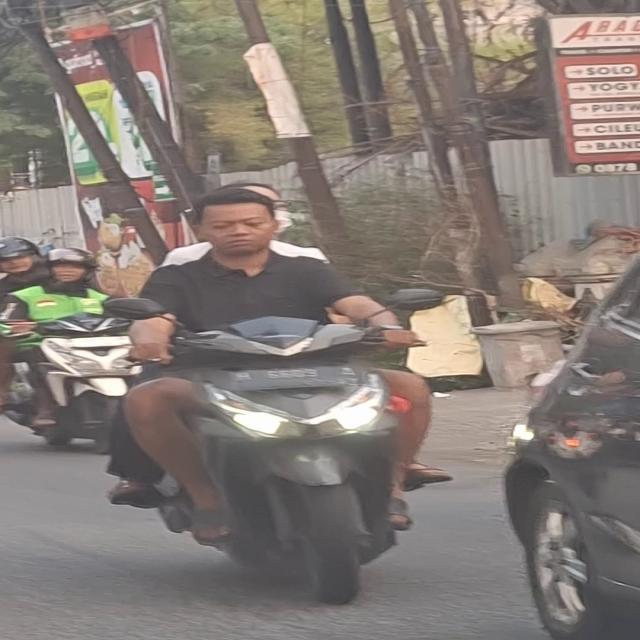WithHelmet: (0, 249, 118, 428), (0, 236, 55, 296)
WithoutHelmet: (115, 183, 462, 610)
